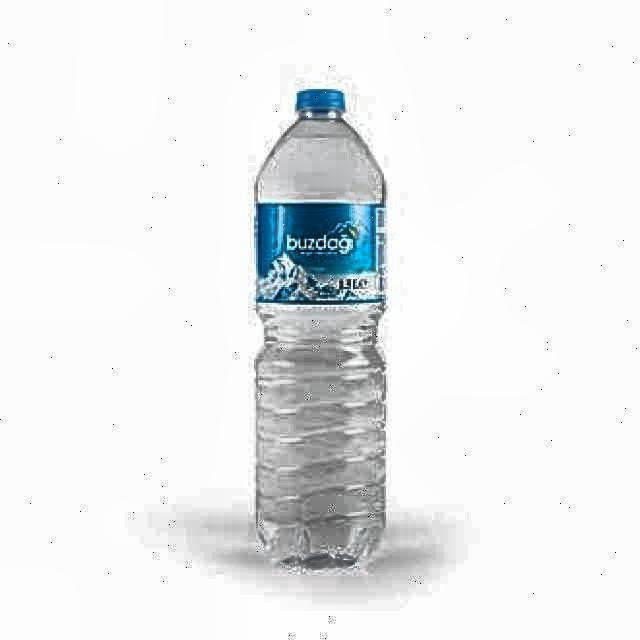plastic: (253, 84, 388, 572)
